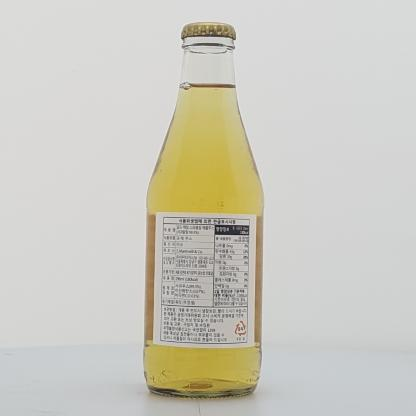------------------296ML: (143, 22, 264, 399)
